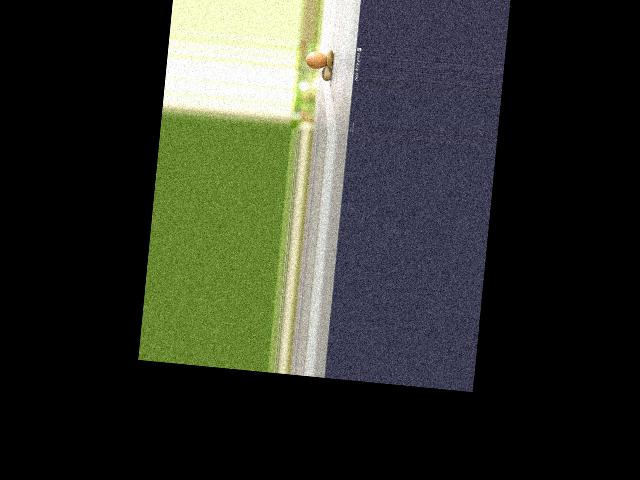egg: (305, 50, 328, 70)
